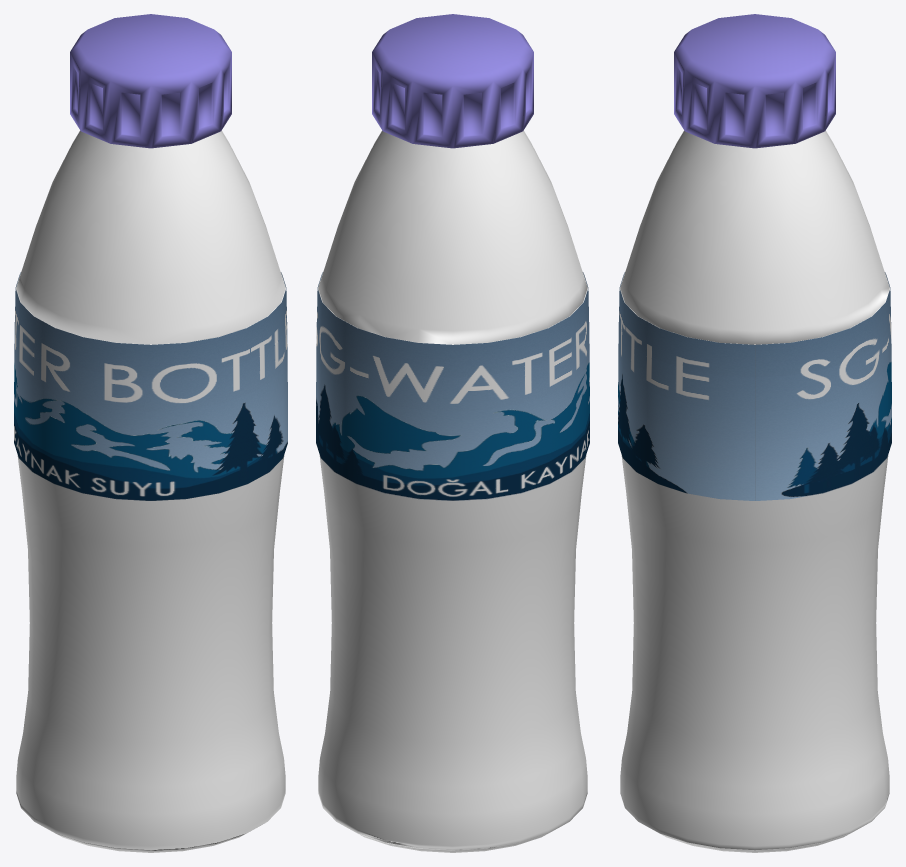
Rendered from sg-water-bottle.obj.
The picture shows the model from 3 angles, left to right: view 1: azimuth 30°, elevation 25°; view 2: azimuth 150°, elevation 25°; view 3: azimuth 270°, elevation 25°; orthographic projection.
Parts seen in each view (by area): view 1: BOTTLE, LAYER, BOTTLE_2; view 2: BOTTLE, LAYER, BOTTLE_2; view 3: BOTTLE, LAYER, BOTTLE_2.
Part boxes in pixels (left/top/right/bottom): BOTTLE: left=16, top=130, right=285, bottom=852; LAYER: left=14, top=272, right=287, bottom=500; BOTTLE_2: left=70, top=14, right=231, bottom=148; BOTTLE: left=318, top=130, right=587, bottom=852; LAYER: left=316, top=272, right=589, bottom=500; BOTTLE_2: left=372, top=14, right=533, bottom=148; BOTTLE: left=620, top=130, right=889, bottom=852; LAYER: left=618, top=272, right=891, bottom=500; BOTTLE_2: left=674, top=14, right=835, bottom=148.
Size of the model in its own units: 0.9822 by 3 by 0.9822.
Materials: 3 (3 with a texture image).
